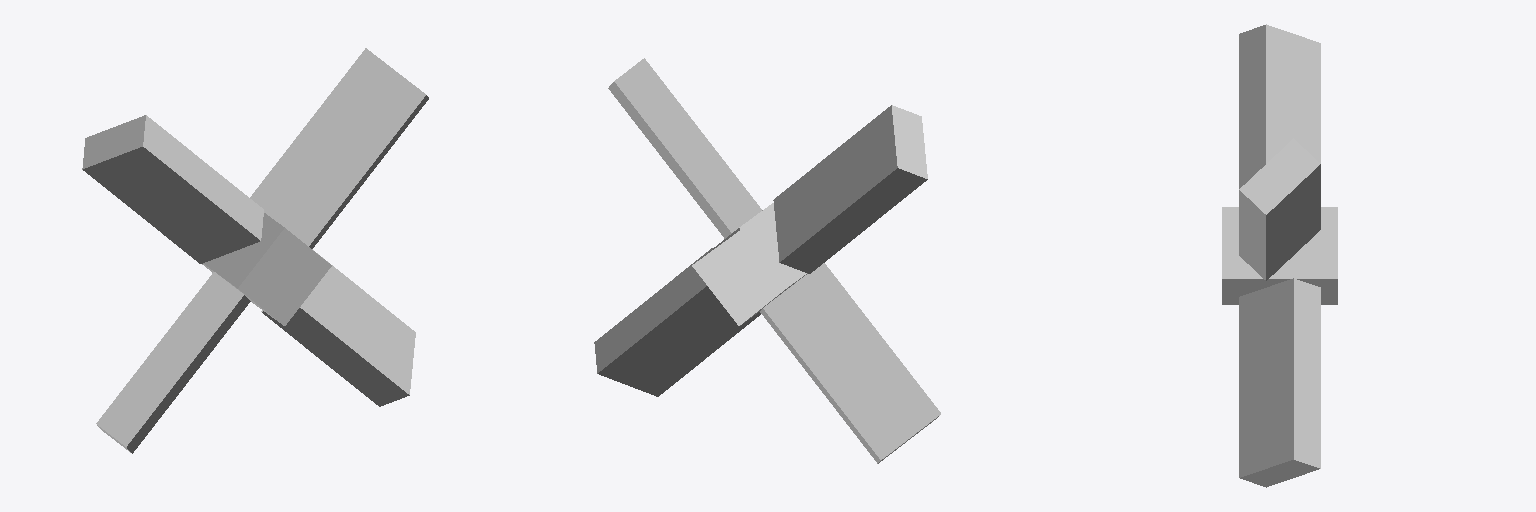
Rendered from blastfurnace_fan.obj.
3 views of the same model, side by side, from view 1: azimuth 30°, elevation 25°; view 2: azimuth 150°, elevation 25°; view 3: azimuth 270°, elevation 25° (orthographic).
Visible parts, largest first — view 1: fan; view 2: fan; view 3: fan.
Part boxes in pixels (x1,y1,x2,y2): fan: (82, 48, 428, 453); fan: (594, 58, 940, 463); fan: (1222, 24, 1337, 487).
Size of the model in its own units: 0.6241 by 0.6241 by 0.1875.